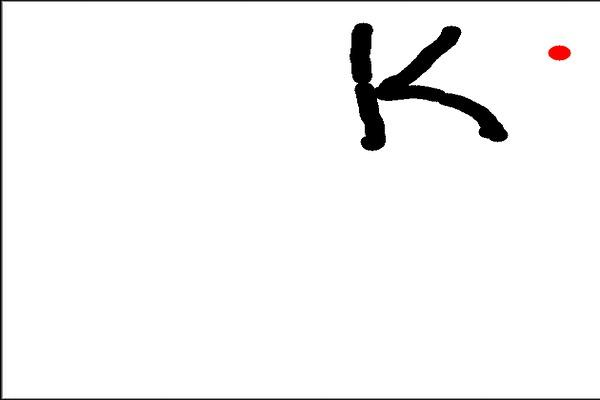K: (339, 11, 512, 154)
